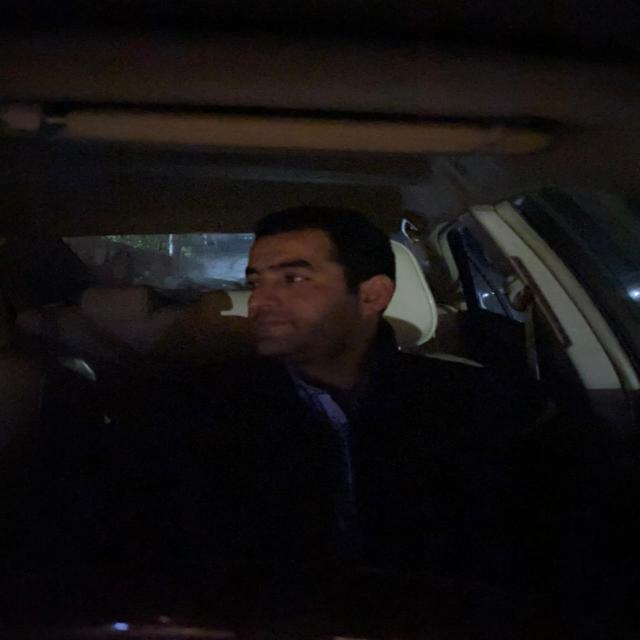LeftRight: (229, 202, 407, 386)
